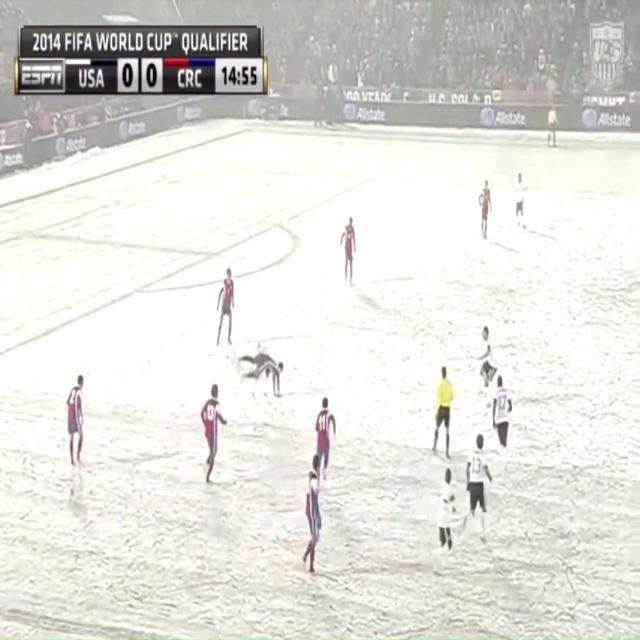player: (293, 453, 330, 575), (192, 379, 232, 491), (60, 364, 94, 479), (237, 348, 293, 406), (465, 431, 495, 531), (438, 466, 462, 574), (314, 396, 338, 490), (488, 369, 512, 457), (214, 261, 236, 353), (477, 322, 497, 414), (341, 208, 360, 304), (512, 173, 535, 234), (476, 180, 496, 249)
referee: (430, 358, 456, 466), (543, 107, 569, 164)
